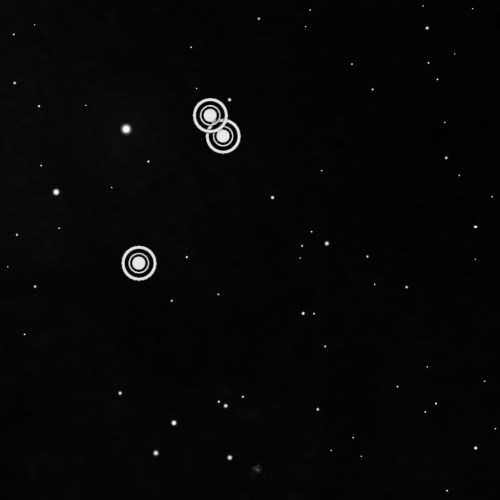canis_minor: (113, 90, 247, 299)
